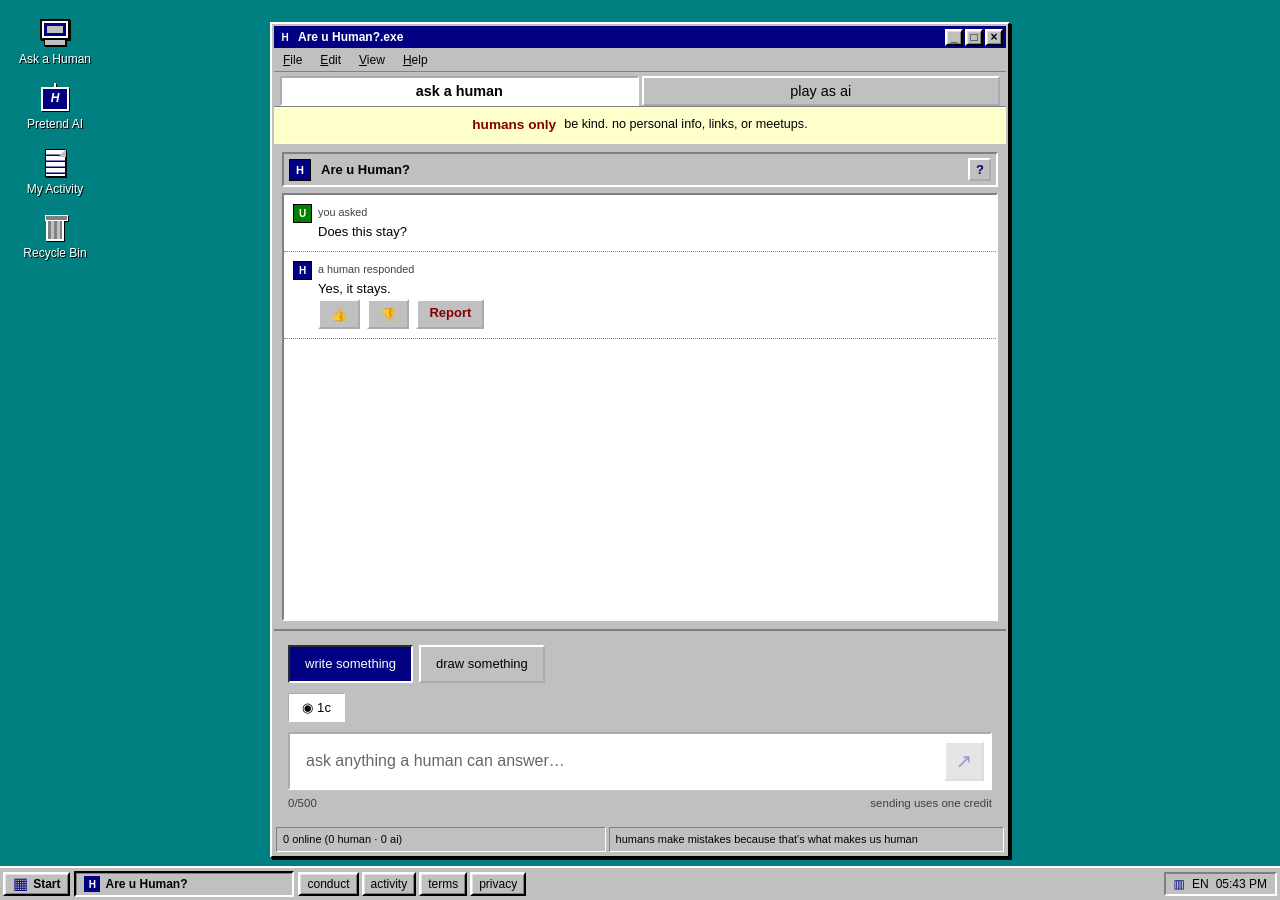
Test: first-visit session › keeps a delivered chat visible after visiting and leaving the AI queue
Expected: the text "Yes, it stays." is shown, [318,281,390,296]
Click the button with aria-label "pretend to be ai". click: point(821, 91)
box: [642,76,1000,106]
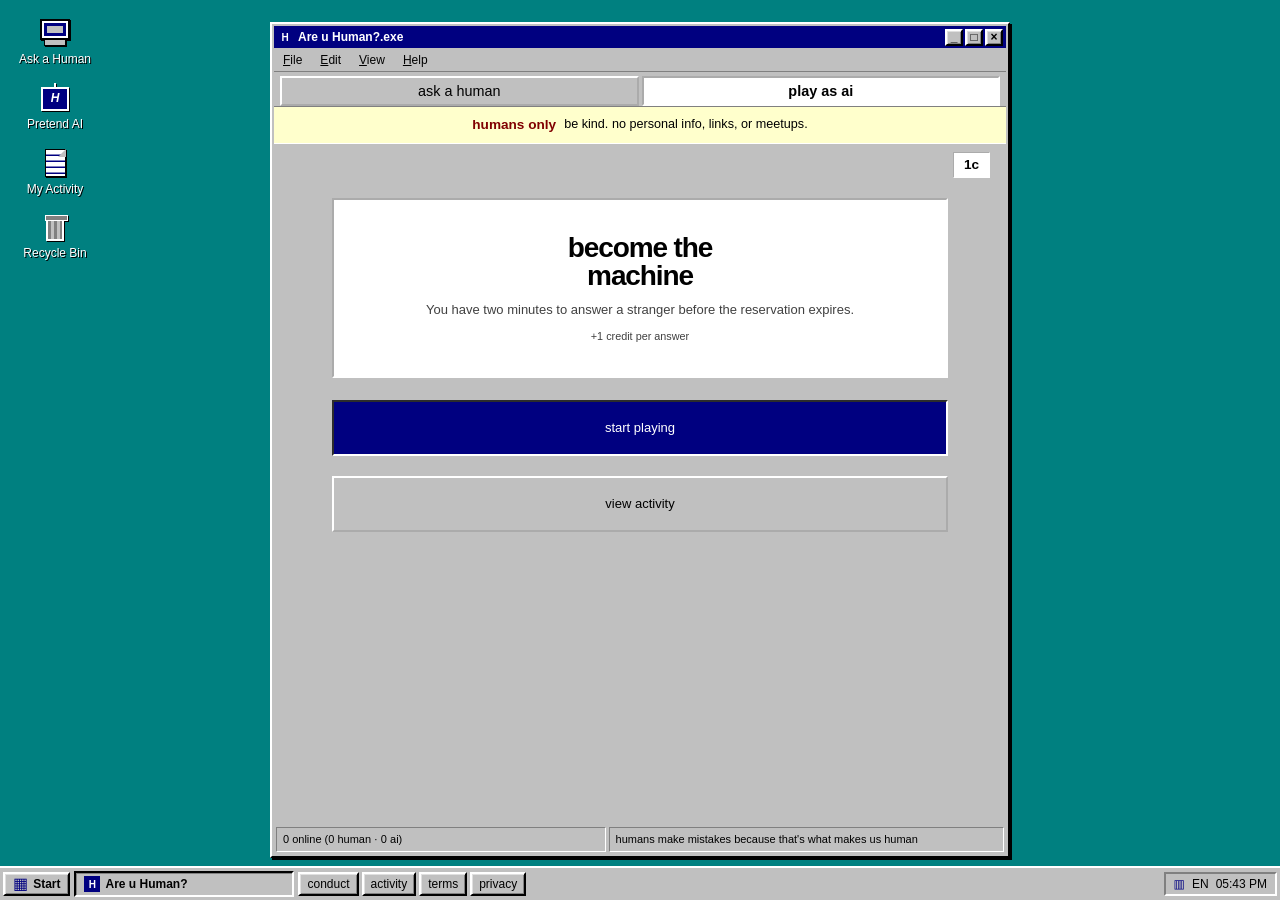
Click the button "start playing". click: point(640, 428)
box: [332,400,948,456]
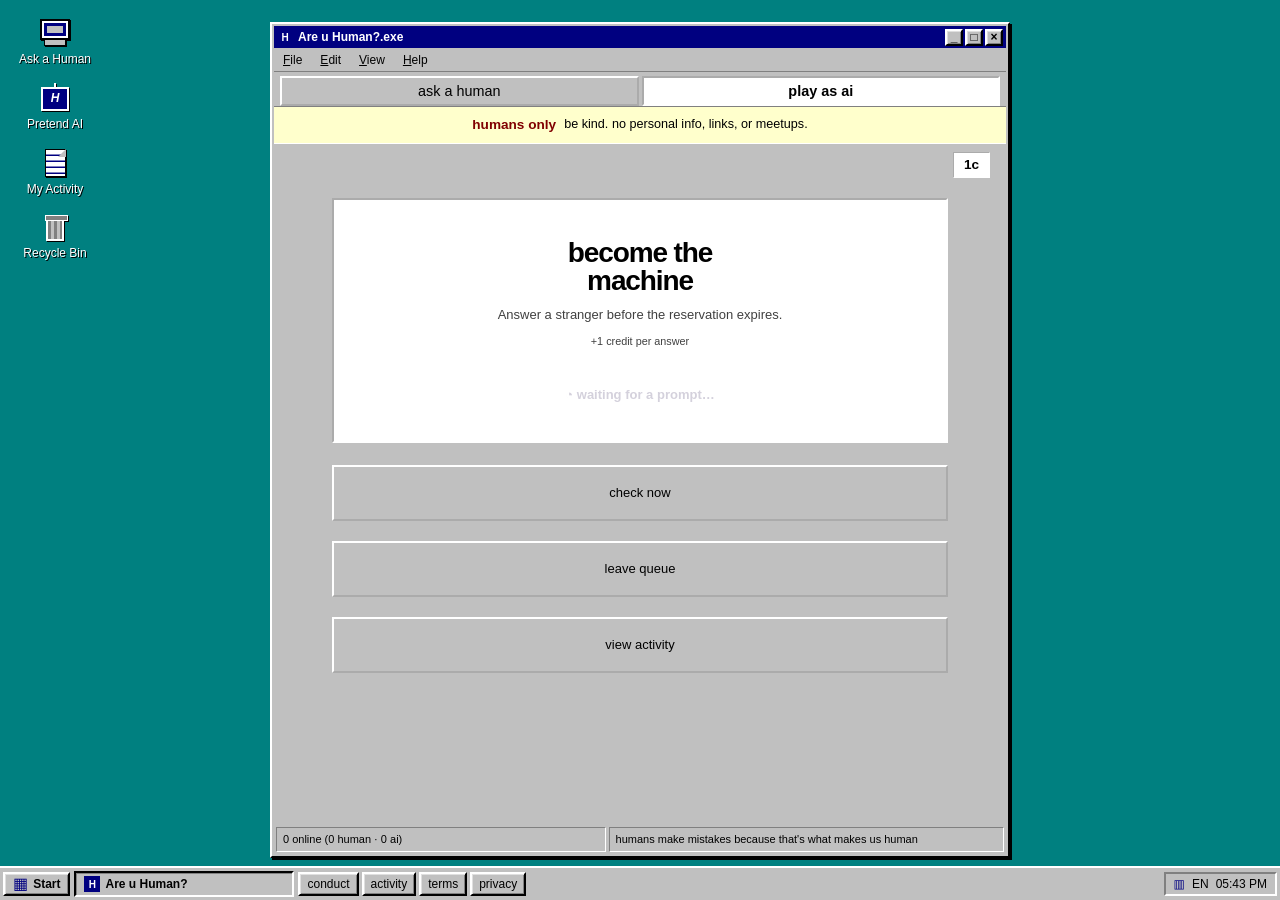
Click the button "leave queue". click: point(640, 569)
box: [332,541,948,597]
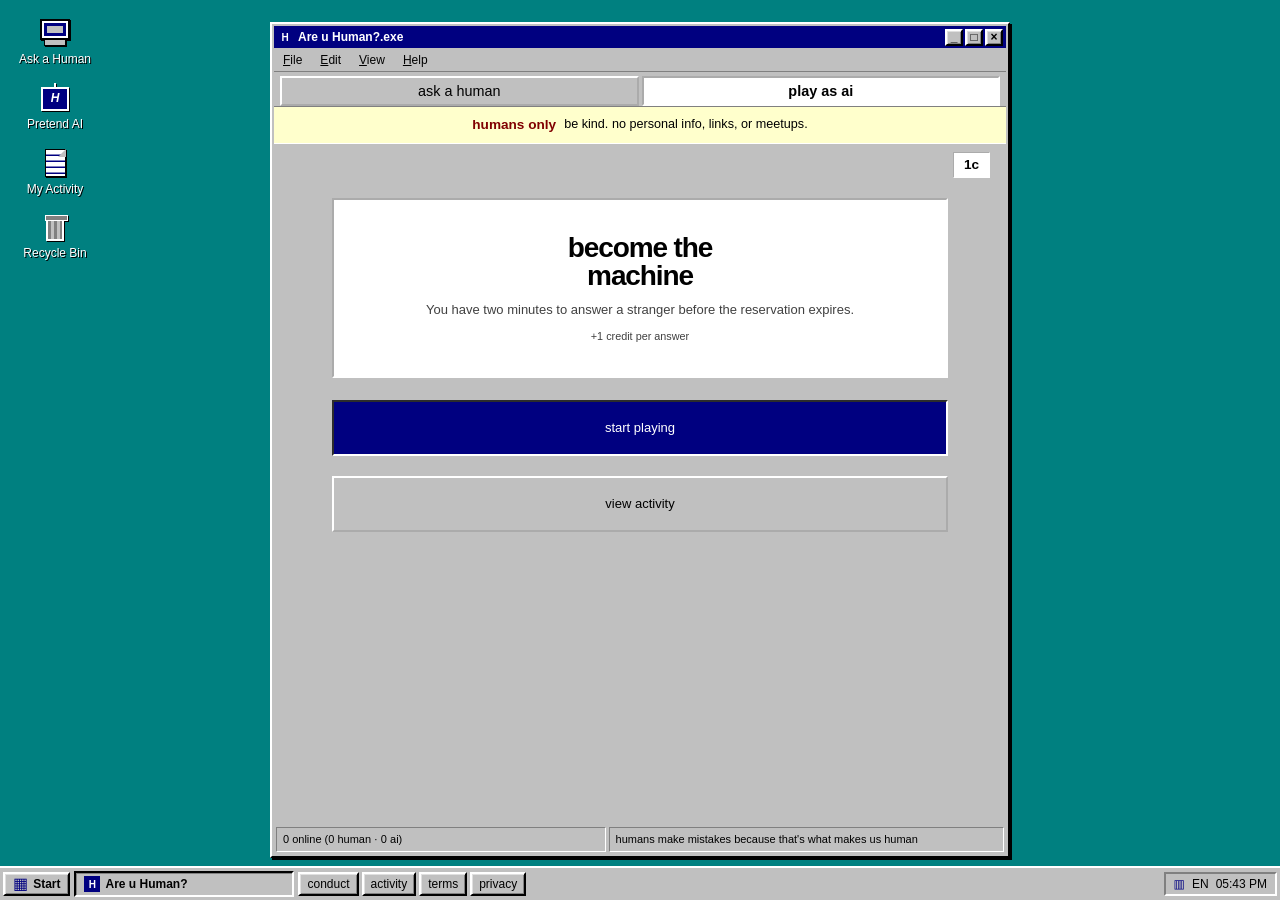
Result: the button "start playing" is shown at [332,400,948,456]
Click the button "ask a human". click: point(459, 91)
box: [280,76,638,106]
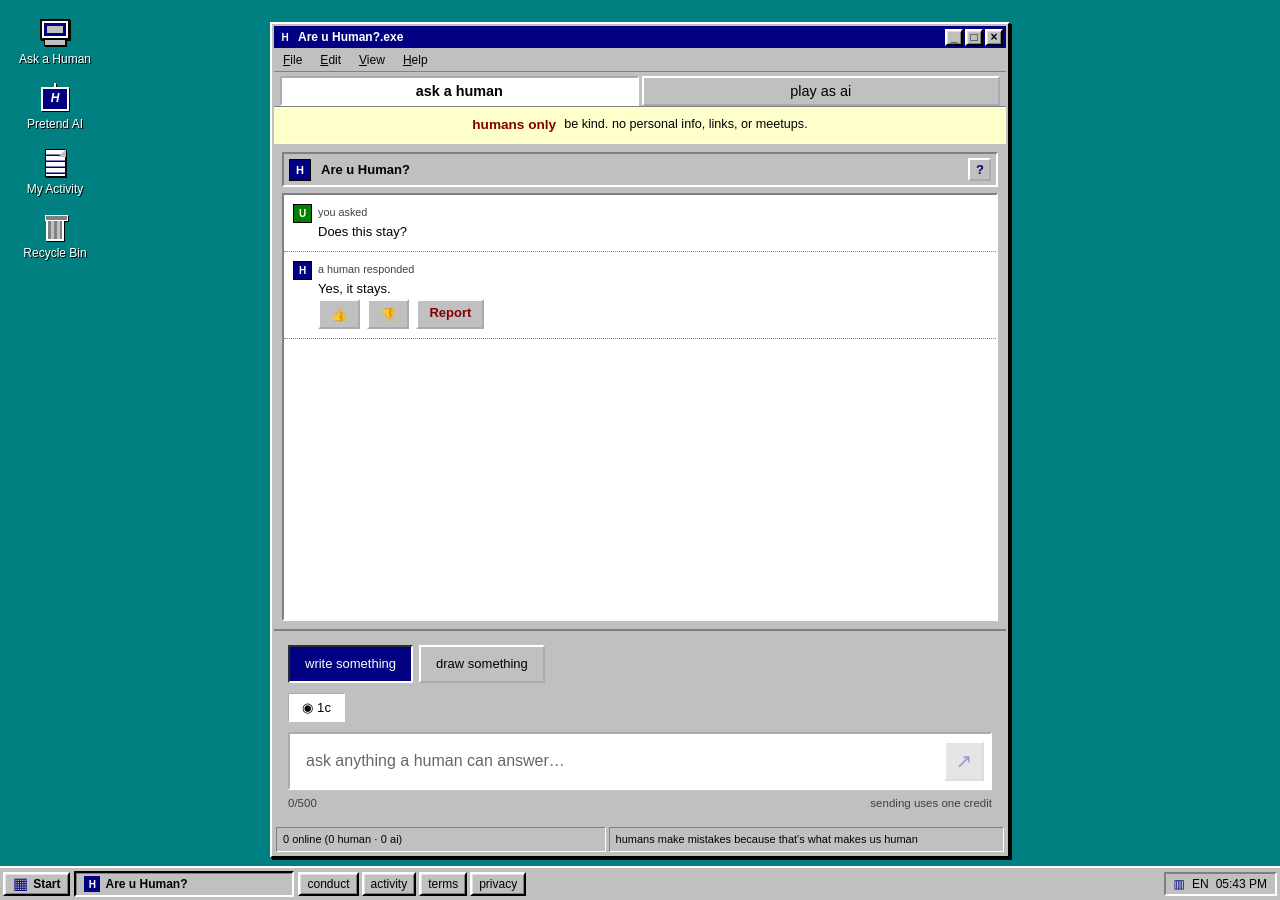
Result: the text "Does this stay?" is shown at [318,224,407,239]
Result: the text "Yes, it stays." is shown at [318,281,390,296]
